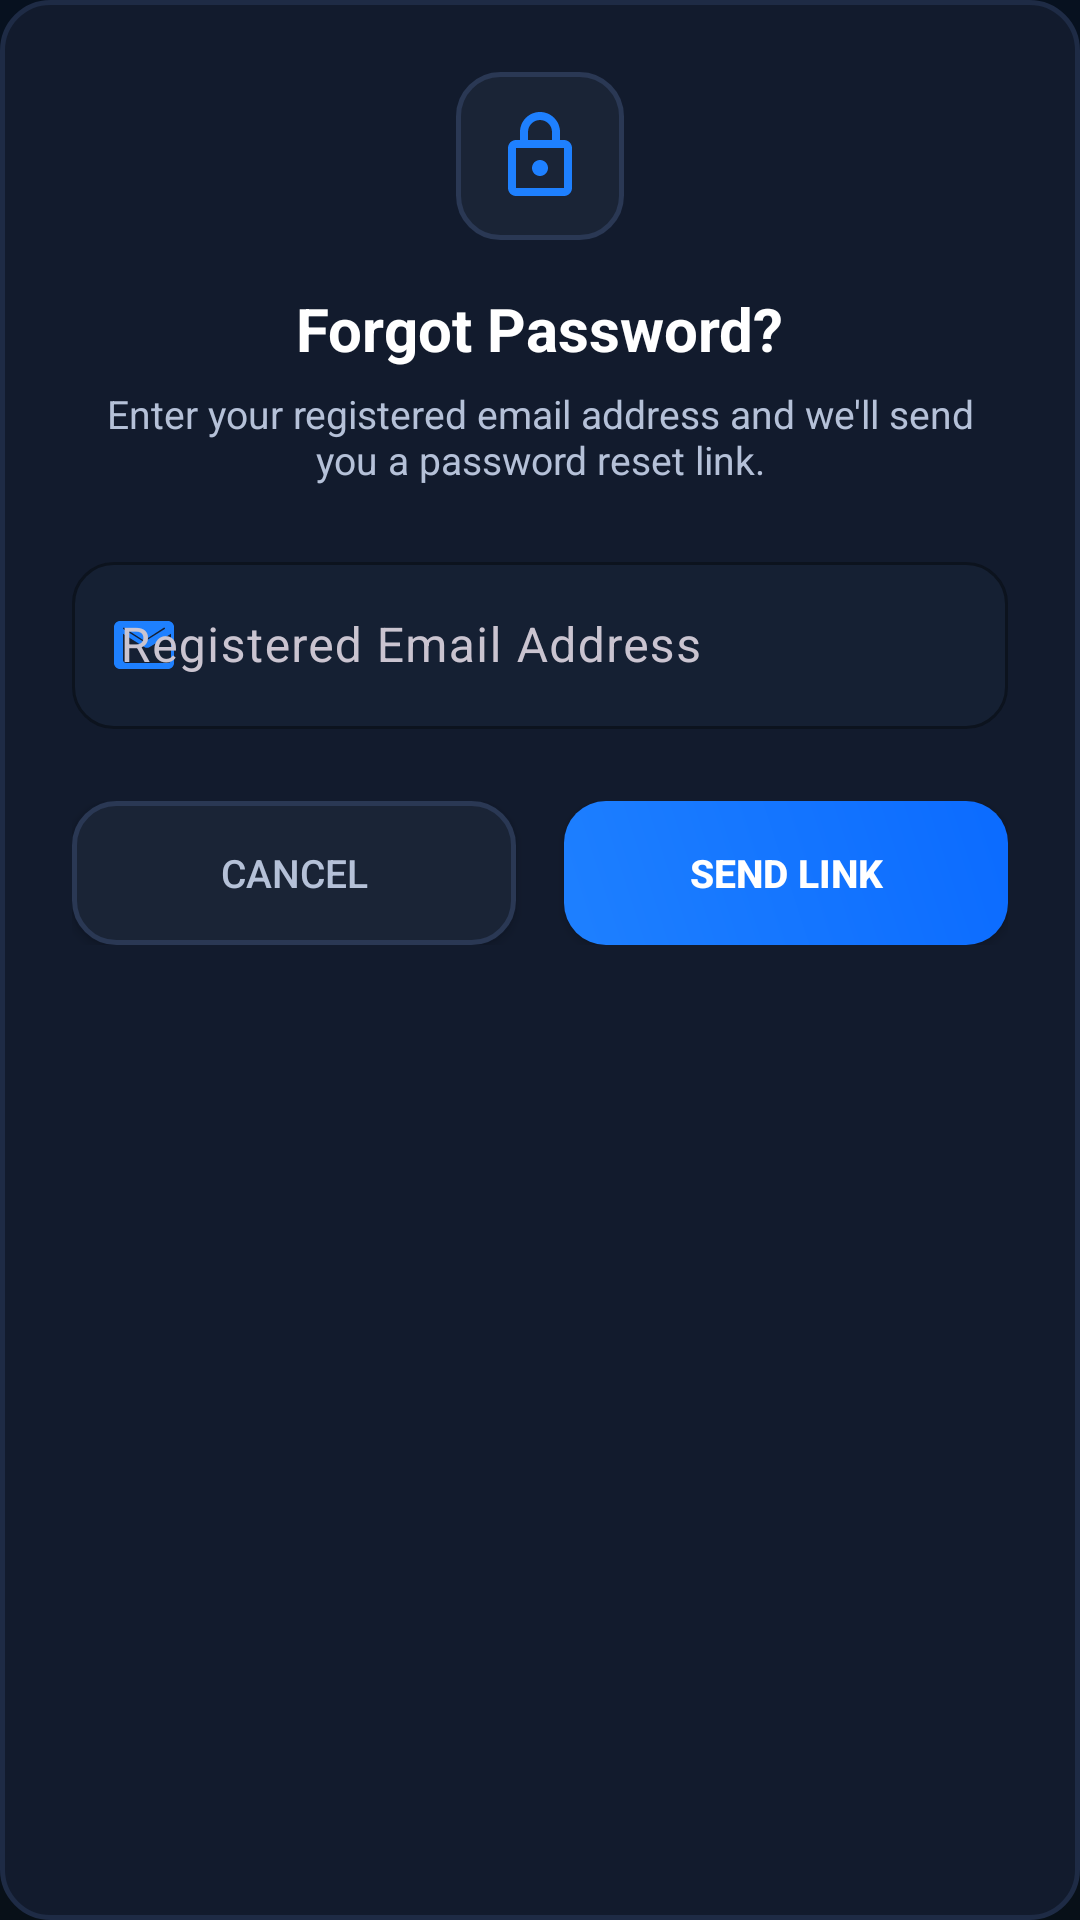

Screen size 1080px×1920px. Icon name, then its center in pixels as [x,y]:
lock: [540,156]
